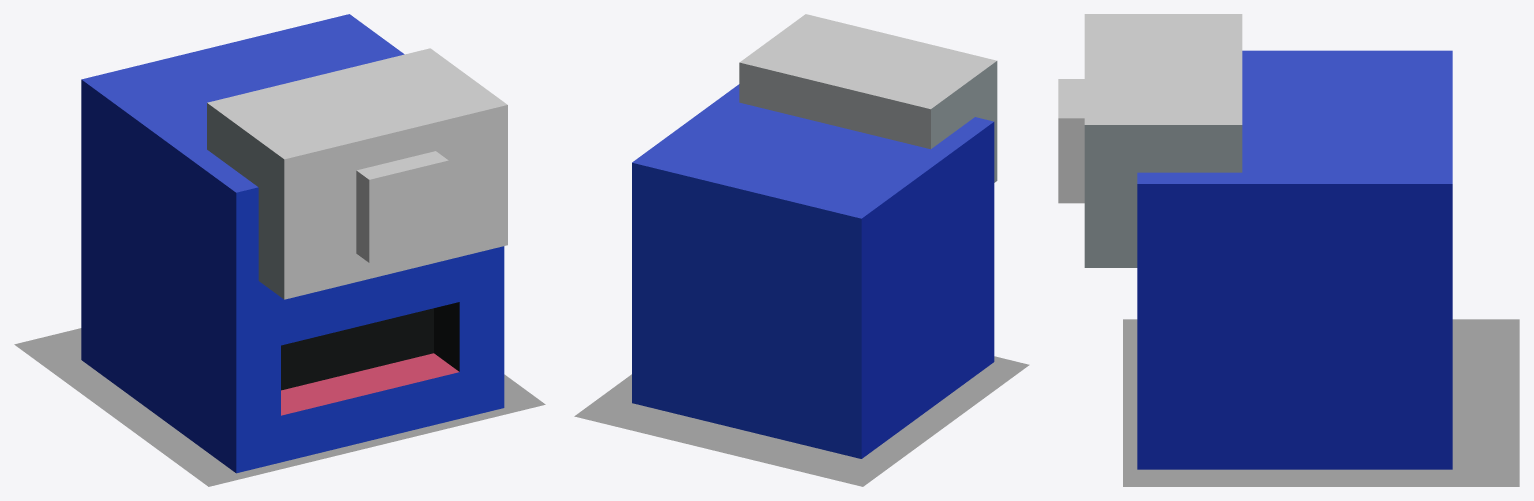
Rendered from EN_TinyBit_Blue.fbx.
3 views of the same model, side by side, from view 1: azimuth 30°, elevation 25°; view 2: azimuth 150°, elevation 25°; view 3: azimuth 270°, elevation 25° (orthographic). The views are drawn at different scales.
Visible parts, largest first — view 1: Body, Eye, Mouth, Shadow, Pupil; view 2: Body, Eye, Shadow; view 3: Body, Eye, Shadow, Pupil.
Boxes of the visible parts, left/top/right/bottom form: Body: left=81, top=14, right=504, bottom=473; Eye: left=207, top=48, right=507, bottom=299; Mouth: left=281, top=353, right=459, bottom=462; Shadow: left=14, top=328, right=545, bottom=486; Pupil: left=356, top=151, right=448, bottom=262; Body: left=632, top=84, right=994, bottom=458; Eye: left=739, top=14, right=997, bottom=182; Shadow: left=574, top=356, right=1029, bottom=486; Body: left=1137, top=50, right=1452, bottom=469; Eye: left=1084, top=14, right=1242, bottom=267; Shadow: left=1123, top=319, right=1519, bottom=486; Pupil: left=1058, top=79, right=1084, bottom=203.
Bounding box in the file's own units: 37.73 × 35 × 43.86.
